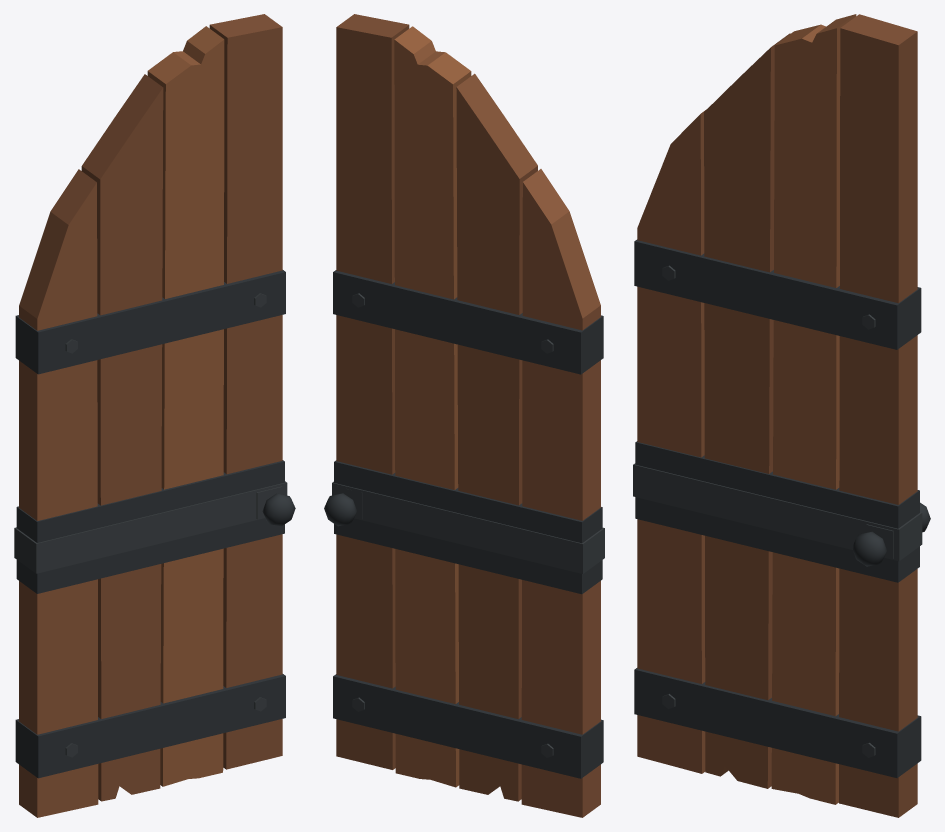
The model's file is CastleDoor_02.glb.
The picture shows the model from 3 angles, left to right: view 1: azimuth 30°, elevation 25°; view 2: azimuth 150°, elevation 25°; view 3: azimuth 330°, elevation 25°; orthographic projection. The views are drawn at different scales.
Visible parts, largest first — view 1: CastleDoor_02_LOD0; view 2: CastleDoor_02_LOD0; view 3: CastleDoor_02_LOD0.
Boxes of the visible parts, <box> form: CastleDoor_02_LOD0: <box>14,14,295,817</box>; CastleDoor_02_LOD0: <box>324,14,604,817</box>; CastleDoor_02_LOD0: <box>633,14,930,817</box>.
Size of what is drawn, in the model's own units: 0.9957 by 2.79 by 0.3772.
Materials: 1 (1 with a texture image).
